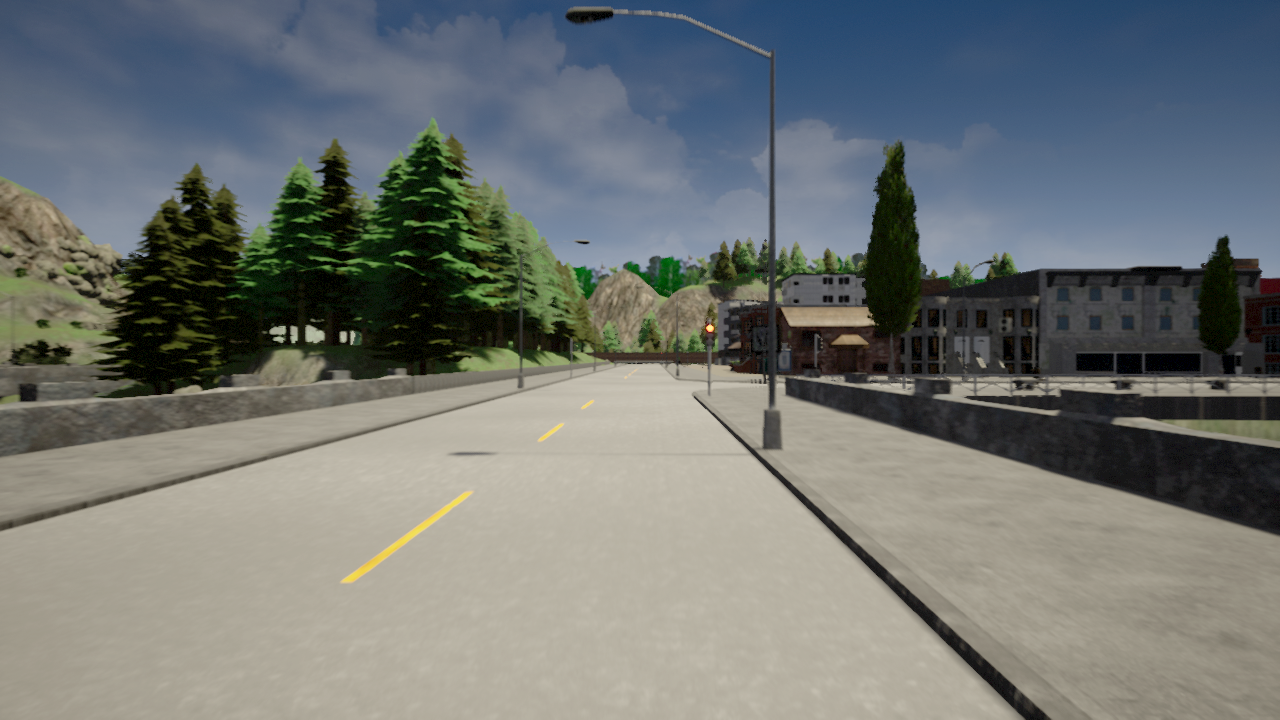red: (705, 323, 716, 346)
